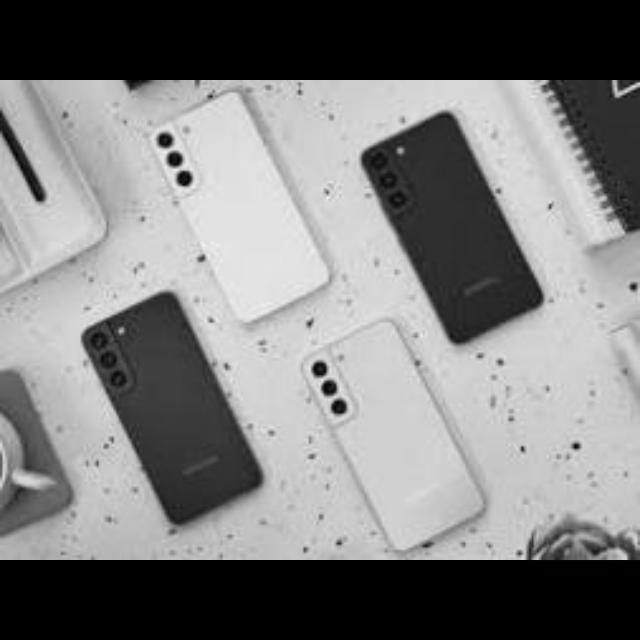fake: (142, 97, 336, 335), (289, 339, 511, 535), (88, 289, 264, 527), (372, 112, 544, 344)
